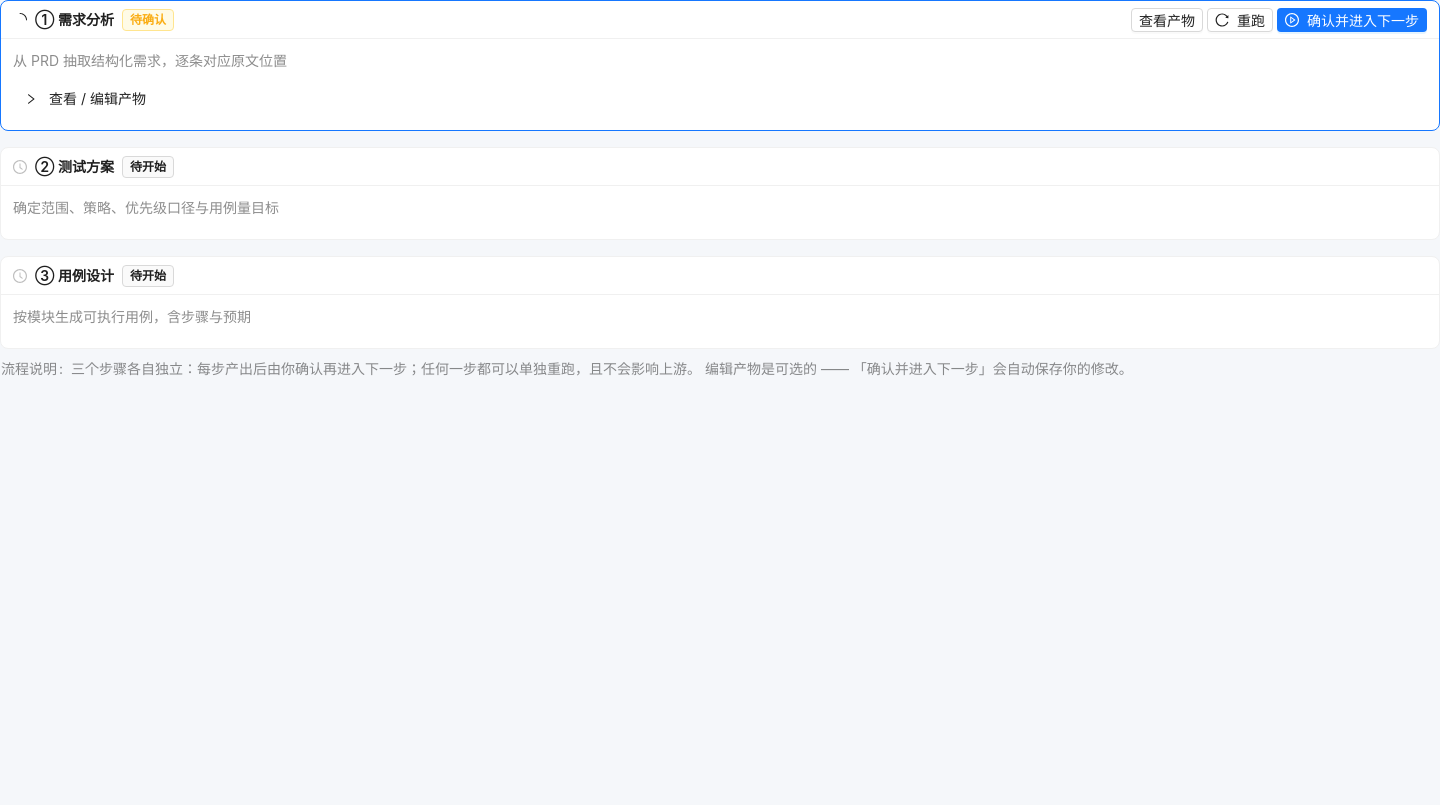
Test: 「查看产物」按钮 › 展开后加载并显示产物内容
This screenshot has width=1440, height=805.
Click the button "查看产物" at coordinates (1167, 20), box 1131,8 -> 1203,32
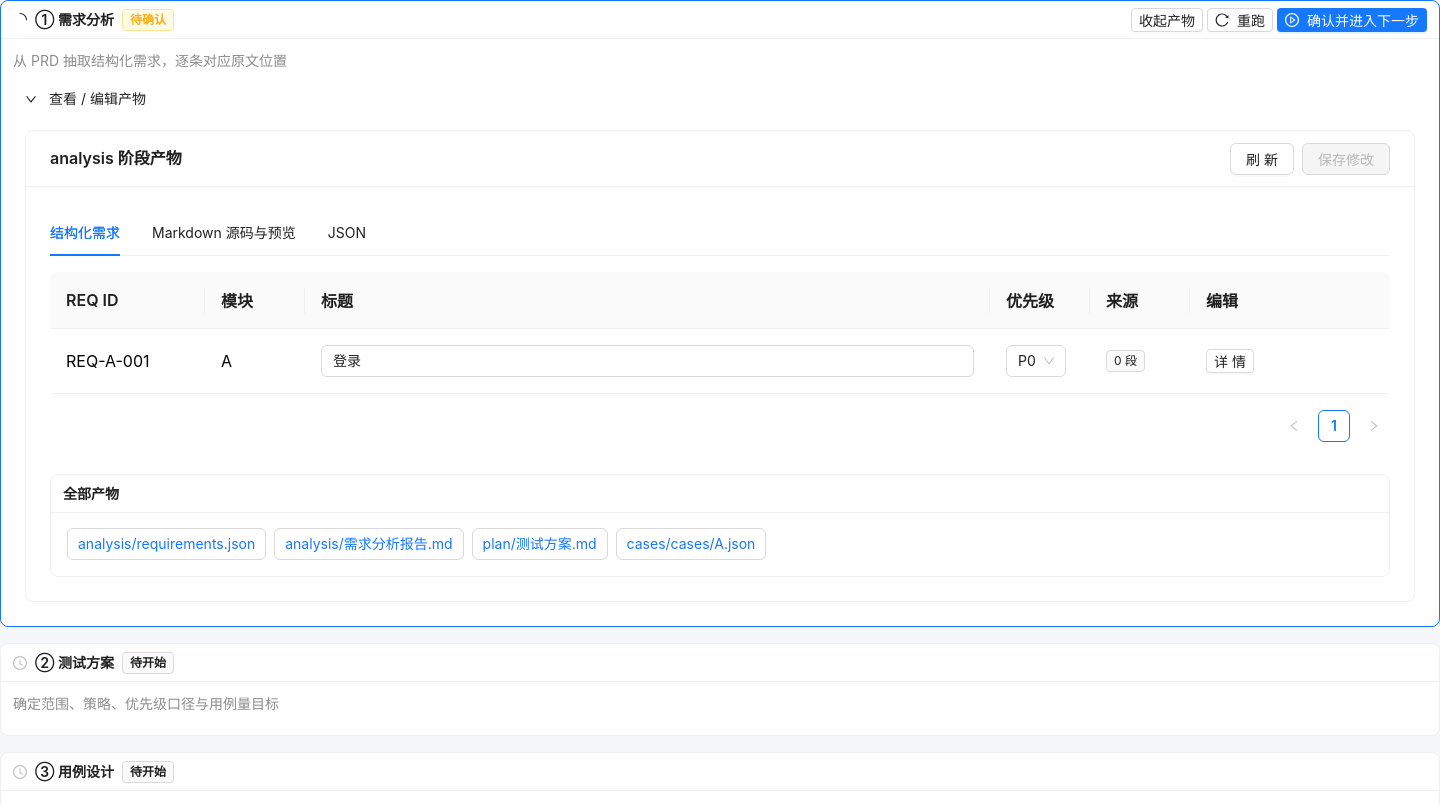
Result: the tab "结构化需求" is shown at 50,222 -> 120,244
